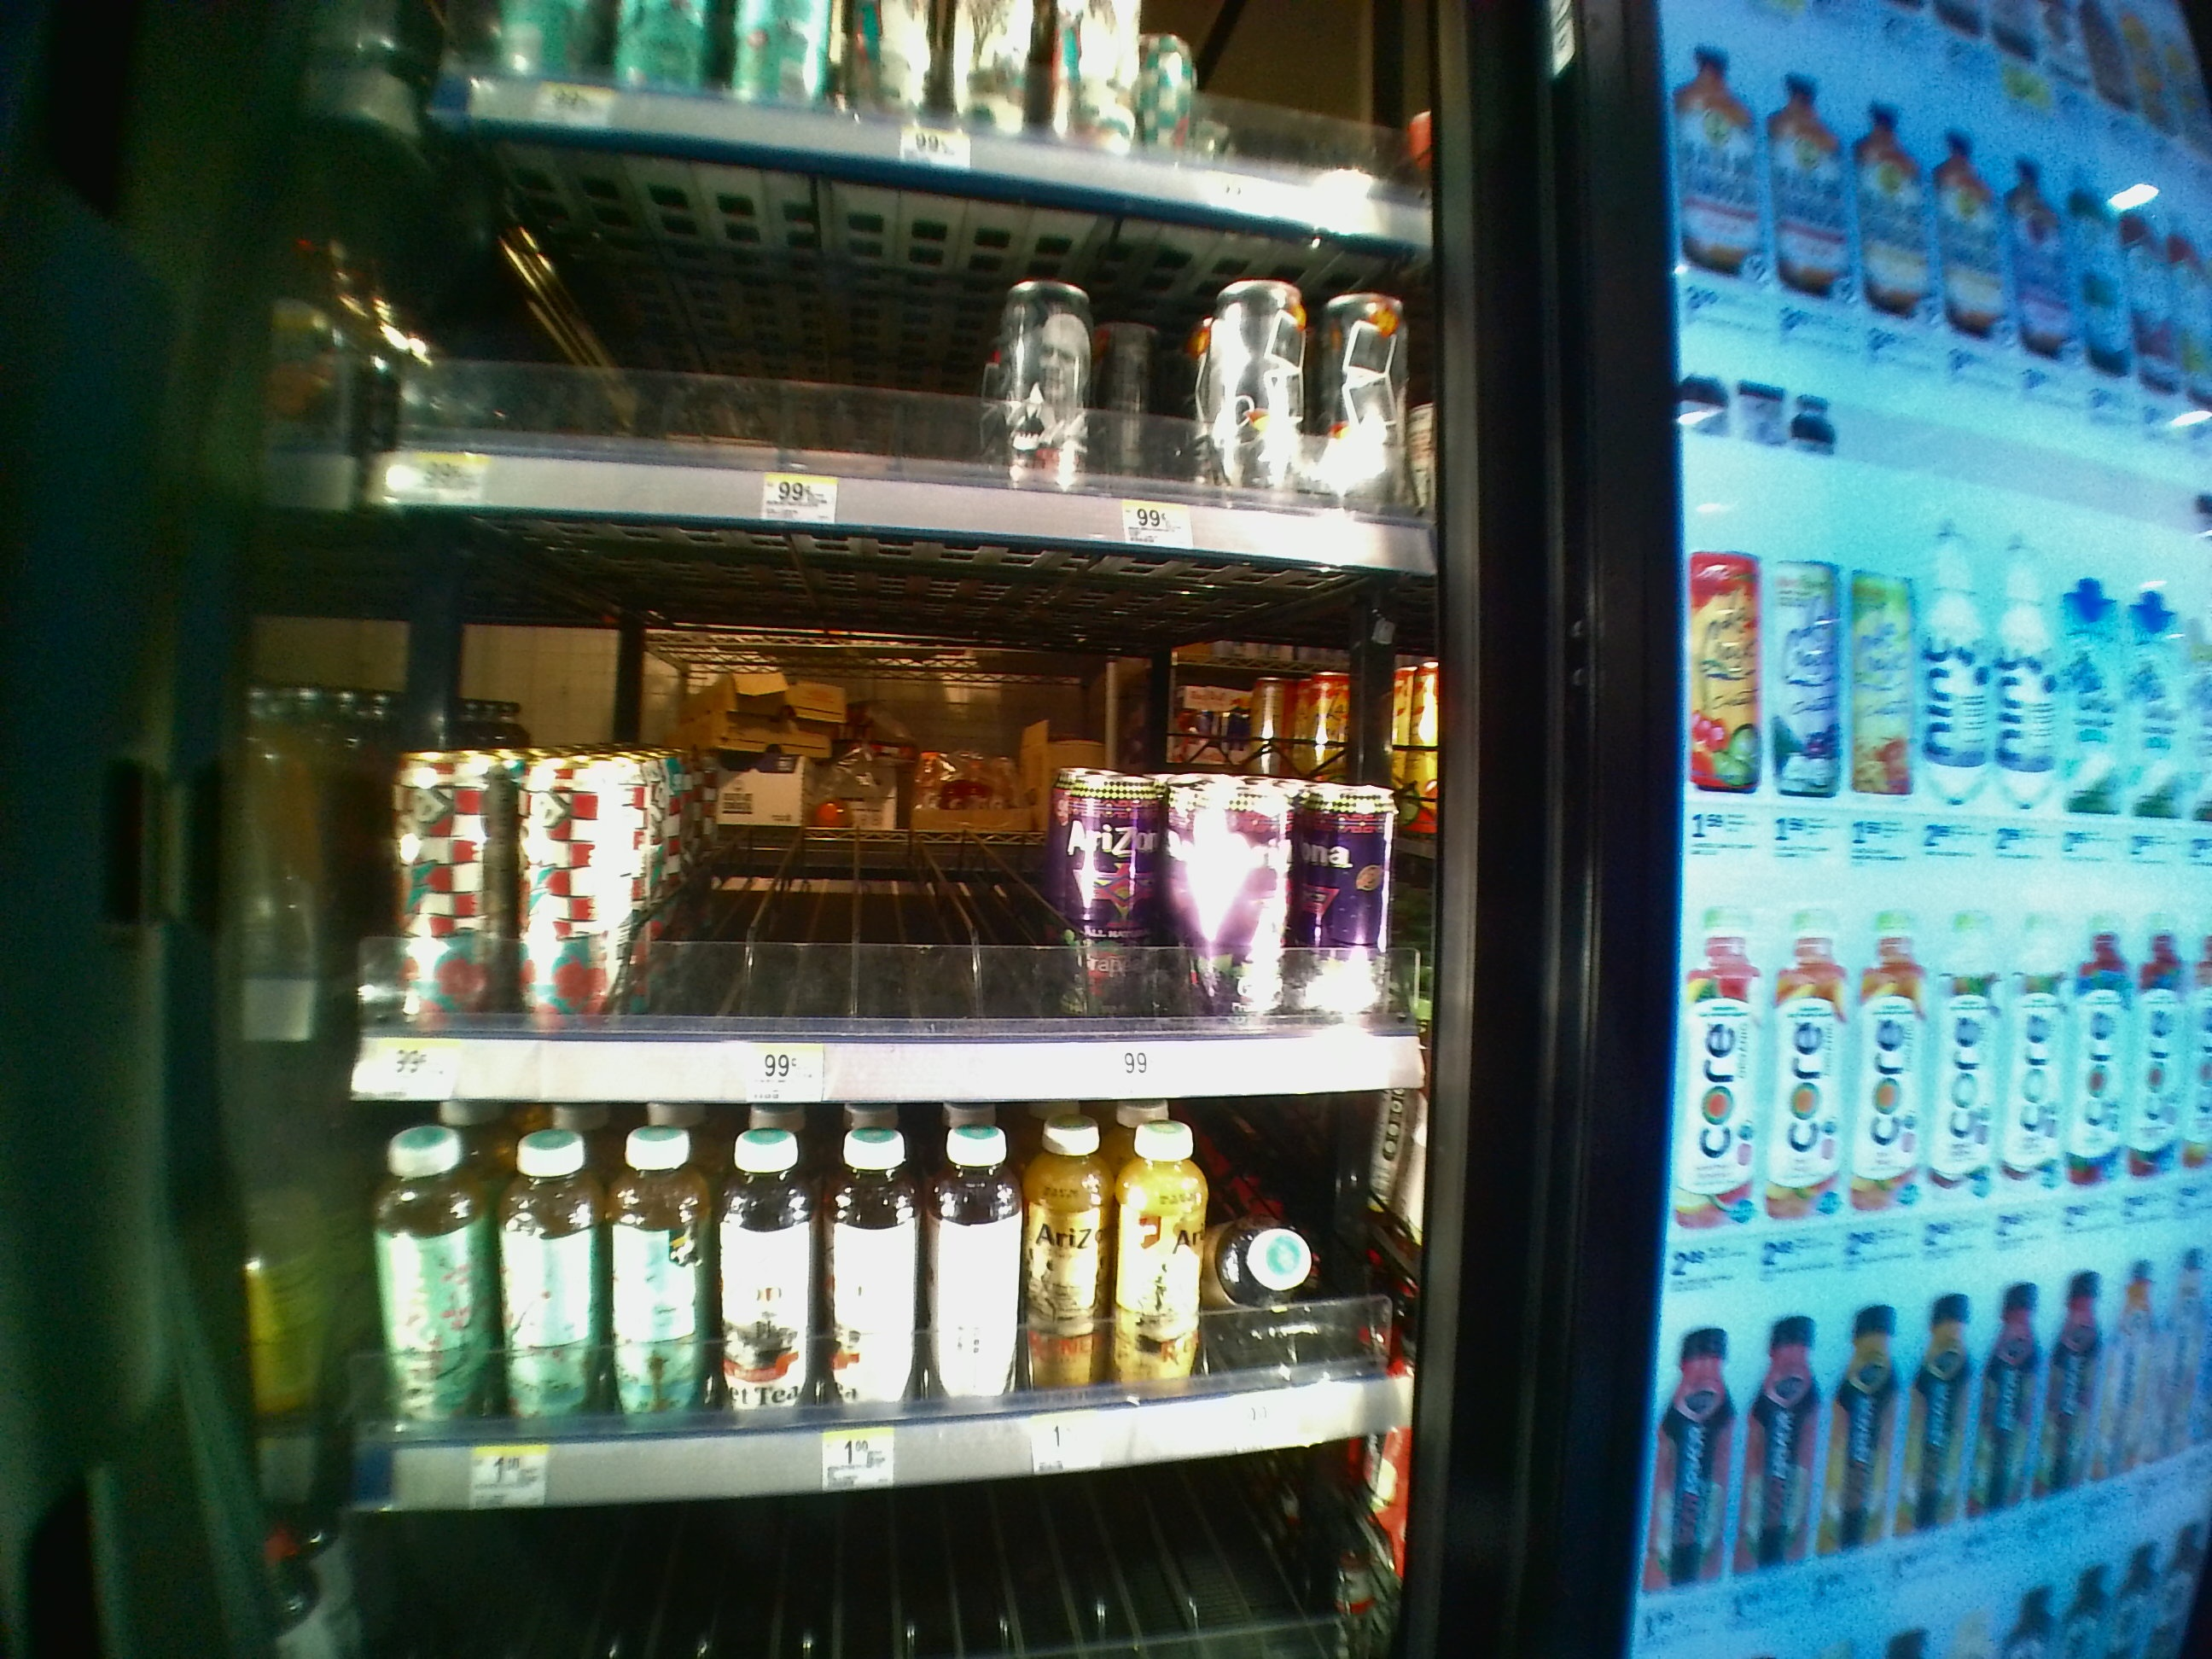shelf: (364, 507, 1425, 1094), (350, 1105, 1435, 1509)
